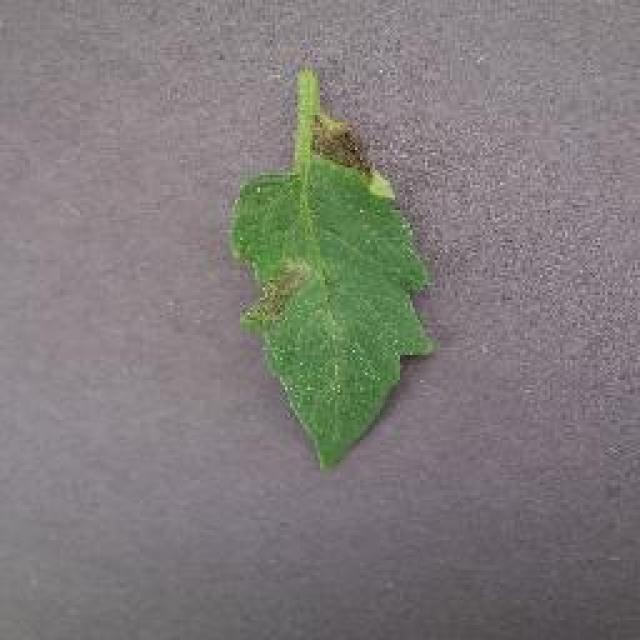Tomato___Late_blight: (228, 70, 438, 472)
